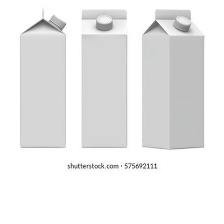carton: (137, 6, 208, 154), (16, 4, 73, 151), (77, 6, 132, 152)
